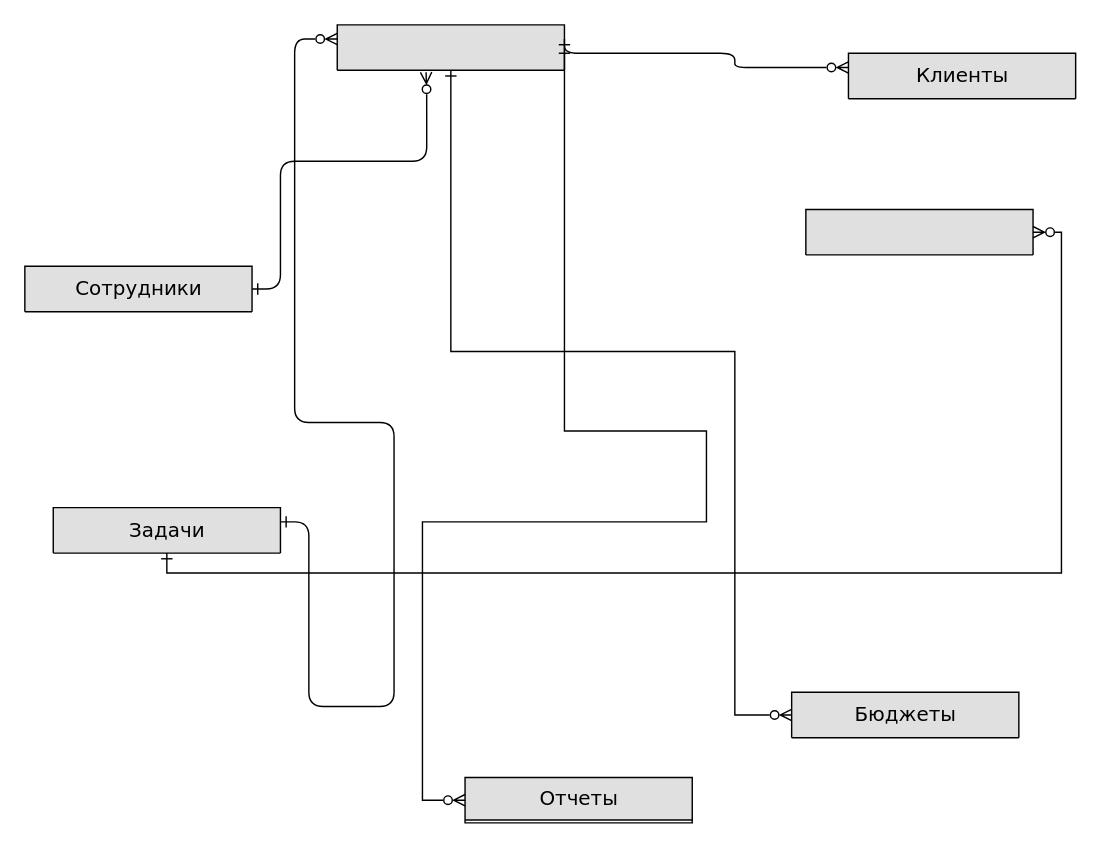
Image size: 1101x848. Some labels were removed from this diagram. Here are the shapes that lost their labels. From the top down, the box of each, then its label:
(336, 23, 564, 70): Проекты
(804, 208, 1033, 255): Версии_задач
